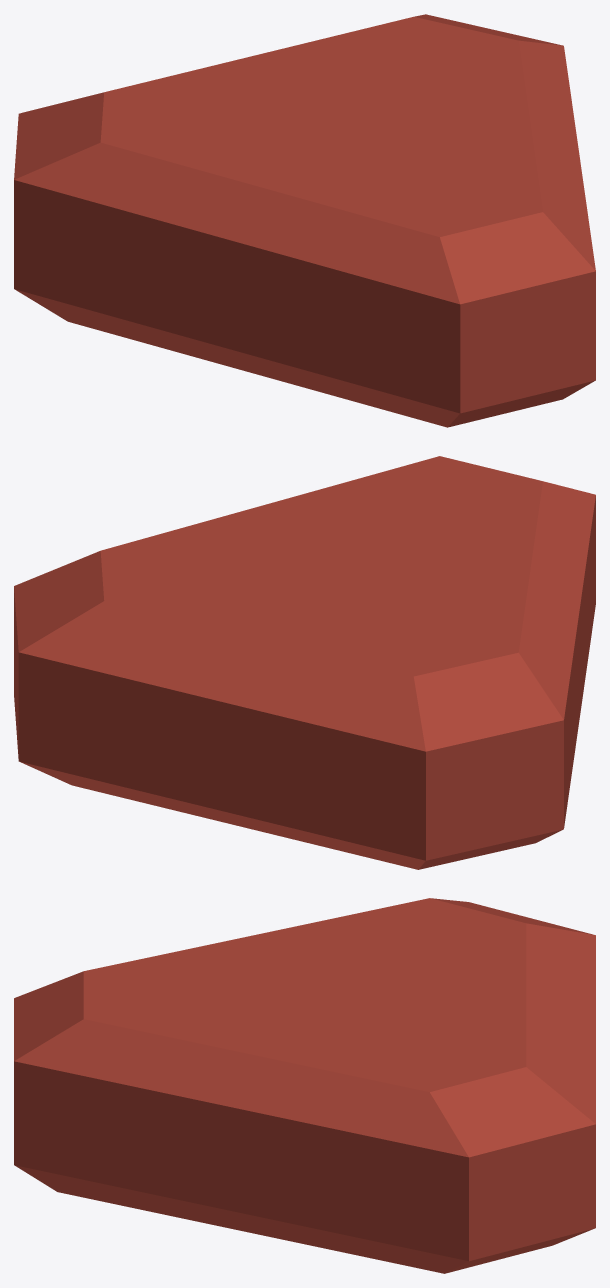
File: SM_Prop_Pills_02.fbx
3 views of the same model, one above another, from view 1: azimuth 30°, elevation 25°; view 2: azimuth 150°, elevation 25°; view 3: azimuth 270°, elevation 25° (orthographic). The views are drawn at different scales.
Parts seen in each view (by area): view 1: SM_Prop_Pills_02; view 2: SM_Prop_Pills_02; view 3: SM_Prop_Pills_02.
Boxes of the visible parts, <box> form: SM_Prop_Pills_02: <box>14,14,595,427</box>; SM_Prop_Pills_02: <box>14,456,595,869</box>; SM_Prop_Pills_02: <box>14,898,595,1273</box>.
Bounding box in the file's own units: 4.33 × 1.34 × 4.17.
